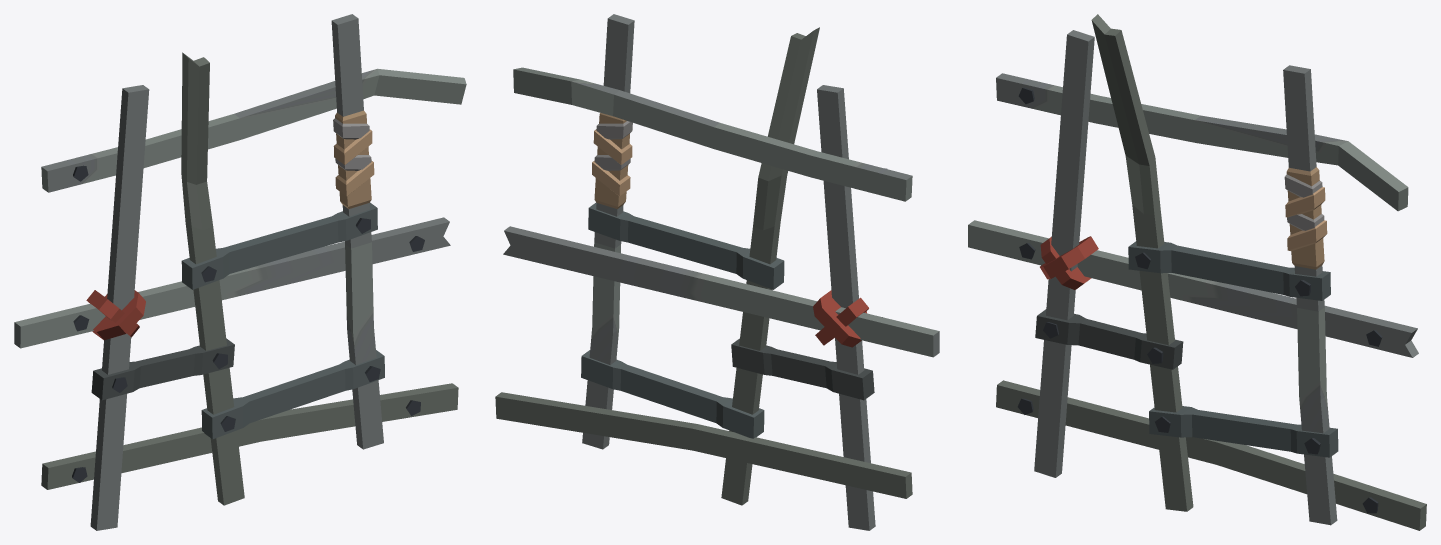
Rendered from SM_Window_Baricade_C.fbx.
3 renders of one model, left to right at view 1: azimuth 30°, elevation 25°; view 2: azimuth 150°, elevation 25°; view 3: azimuth 330°, elevation 25°, orthographic. The views are drawn at different scales.
Visible parts, largest first — view 1: SM_Window_Baricade_C; view 2: SM_Window_Baricade_C; view 3: SM_Window_Baricade_C.
Boxes of the visible parts, <box> form: SM_Window_Baricade_C: <box>14,14,466,530</box>; SM_Window_Baricade_C: <box>495,14,939,530</box>; SM_Window_Baricade_C: <box>968,14,1426,530</box>.
Size of the model in its own units: 147 by 152 by 20.92.
